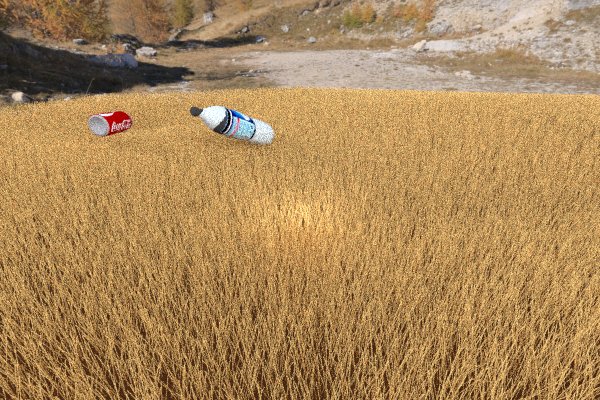Plastic Bottle: (189, 105, 274, 145), (88, 110, 132, 136)
